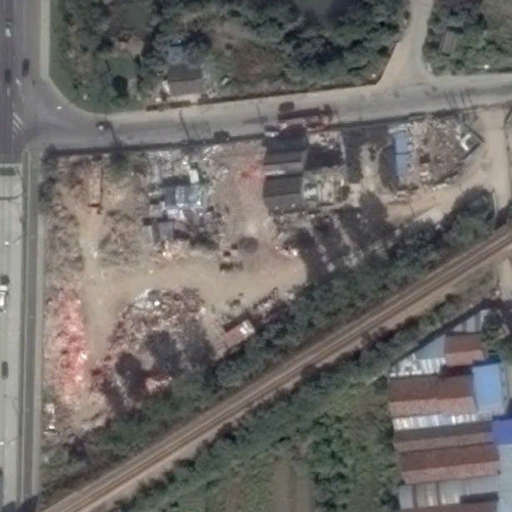msw: (42, 150, 217, 419)
